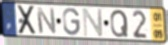2: (131, 9, 150, 40)
G: (62, 7, 82, 37)
N: (81, 8, 104, 38), (35, 7, 58, 36)
Q: (109, 9, 130, 39)
X: (17, 5, 38, 36)
